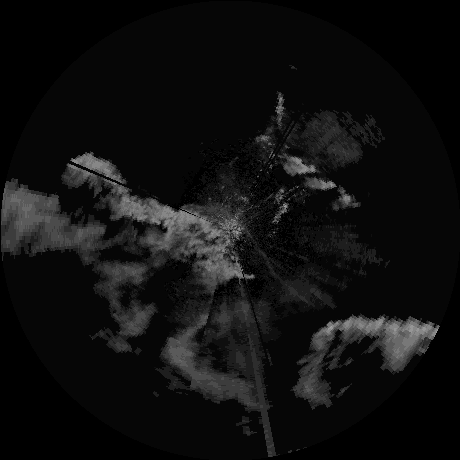frontgust: (246, 235, 286, 287)
